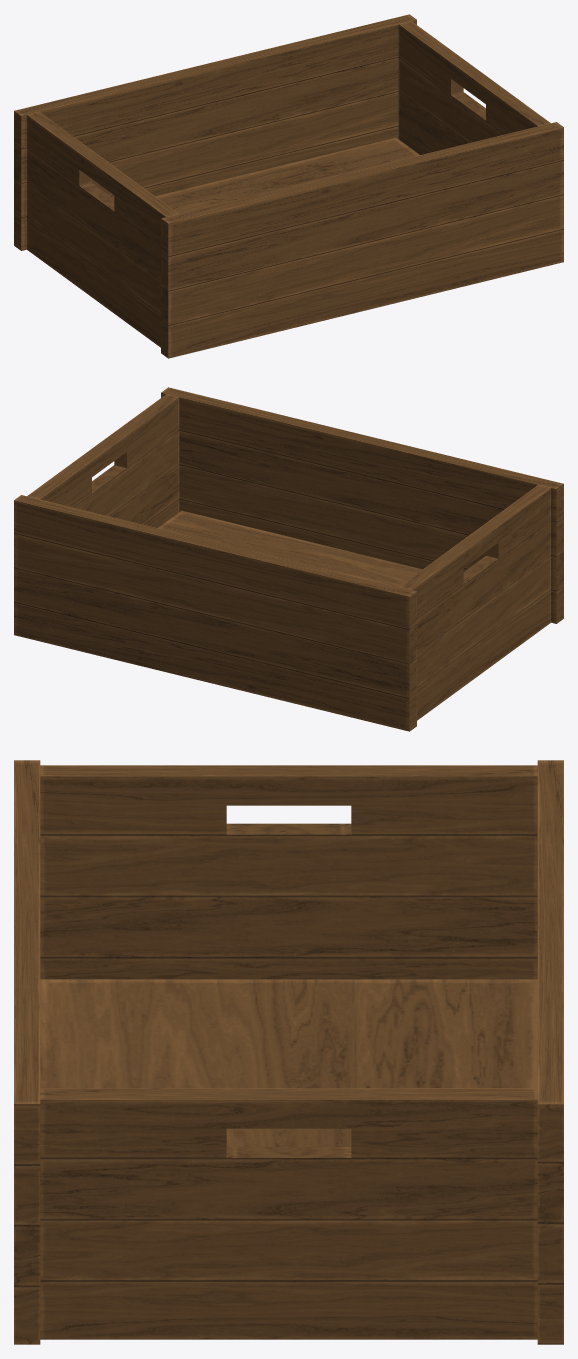
Rendered from DuplicatesBox.fbx.
3 renders of one model, top to bottom at view 1: azimuth 30°, elevation 25°; view 2: azimuth 150°, elevation 25°; view 3: azimuth 270°, elevation 25°, orthographic. The views are drawn at different scales.
Visible parts, largest first — view 1: DuplicatesBox; view 2: DuplicatesBox; view 3: DuplicatesBox.
Boxes of the visible parts, box(x1,y1,x2,y2) form: DuplicatesBox: box(14, 14, 563, 358); DuplicatesBox: box(14, 387, 563, 731); DuplicatesBox: box(14, 760, 563, 1344).
Bounding box in the file's own units: 32.63 × 10.63 × 22.06.
